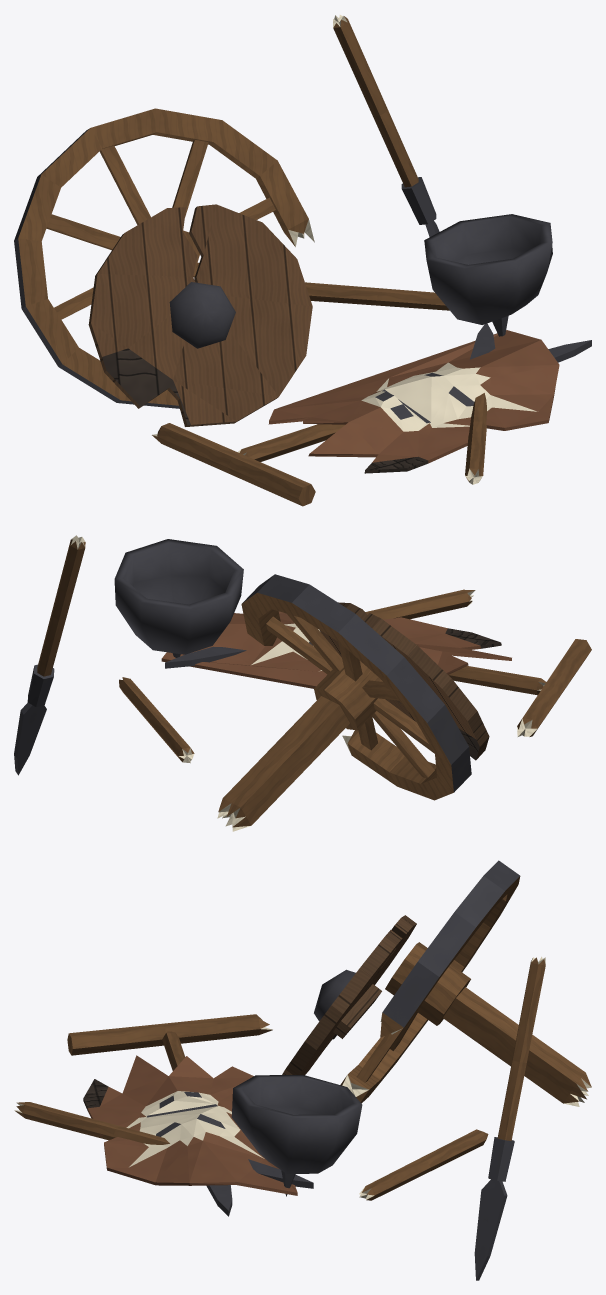
The model's file is battle_debris_b.fbx.
The picture shows the model from 3 angles, top to bottom: view 1: azimuth 30°, elevation 25°; view 2: azimuth 150°, elevation 25°; view 3: azimuth 270°, elevation 25°; orthographic projection. The views are drawn at different scales.
Visible parts, largest first — view 1: battle_debris_b_Wood, battle_debris_b_Cloth, battle_debris_b_Iron; view 2: battle_debris_b_Wood, battle_debris_b_Iron, battle_debris_b_Cloth; view 3: battle_debris_b_Wood, battle_debris_b_Cloth, battle_debris_b_Iron.
Part boxes in pixels (bbox=[...]): battle_debris_b_Wood: bbox=[14, 15, 591, 506]; battle_debris_b_Cloth: bbox=[268, 330, 559, 473]; battle_debris_b_Iron: bbox=[424, 214, 552, 336]; battle_debris_b_Wood: bbox=[14, 535, 591, 831]; battle_debris_b_Iron: bbox=[114, 539, 243, 657]; battle_debris_b_Cloth: bbox=[161, 611, 511, 688]; battle_debris_b_Wood: bbox=[14, 860, 591, 1280]; battle_debris_b_Cloth: bbox=[83, 1055, 297, 1195]; battle_debris_b_Iron: bbox=[231, 1075, 362, 1196].
Bounding box in the file's own units: 7.57 × 4.66 × 8.68.
Materials: 1 (1 with a texture image).
